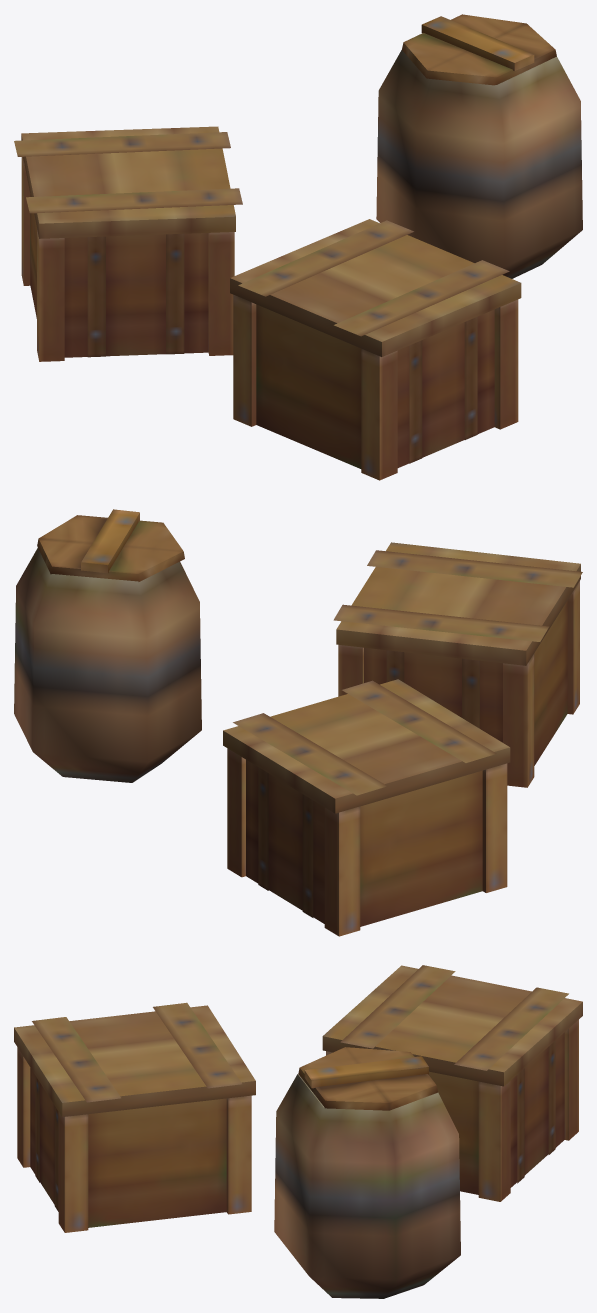
Rendered from area_08_14.fbx.
The picture shows the model from 3 angles, top to bottom: view 1: azimuth 30°, elevation 25°; view 2: azimuth 150°, elevation 25°; view 3: azimuth 270°, elevation 25°; orthographic projection. The views are drawn at different scales.
Visible parts, largest first — view 1: area_08_14; view 2: area_08_14; view 3: area_08_14.
Boxes of the visible parts, x1,y1,x2,y2 form: area_08_14: (14, 14, 582, 480); area_08_14: (14, 509, 582, 936); area_08_14: (14, 965, 582, 1298).
Size of the model in its own units: 2.65 by 1.18 by 2.78.
